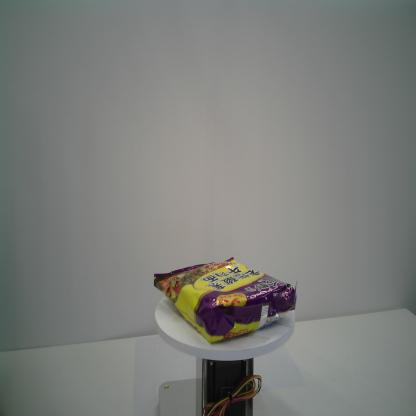Instant Noodles: (152, 256, 298, 345)
